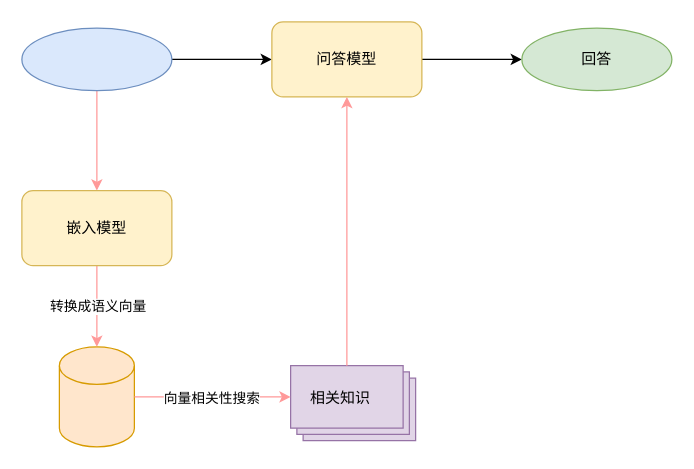
The diagram is 694 pixels wide and 469 high, and some of its shapes have lost their labels. Here are the shapes that lost their labels. From the top down, the centre of each, then its label:
point 96,59: 问题
point 96,396: 知识库
